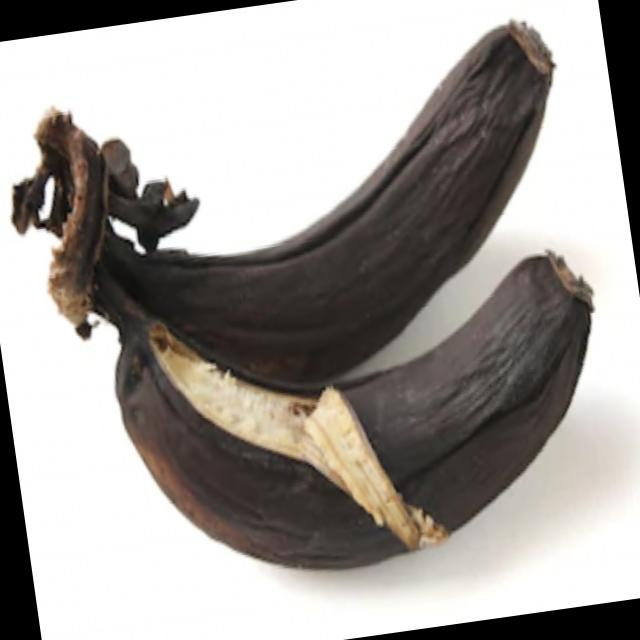rotten-banana: (0, 11, 595, 377), (83, 220, 640, 601)
